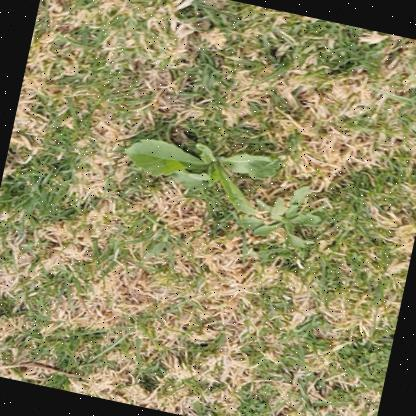Weeds: (114, 118, 279, 218), (234, 175, 326, 254)
